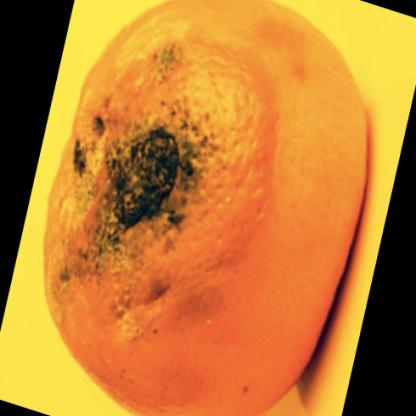rotten: (46, 1, 371, 416)
